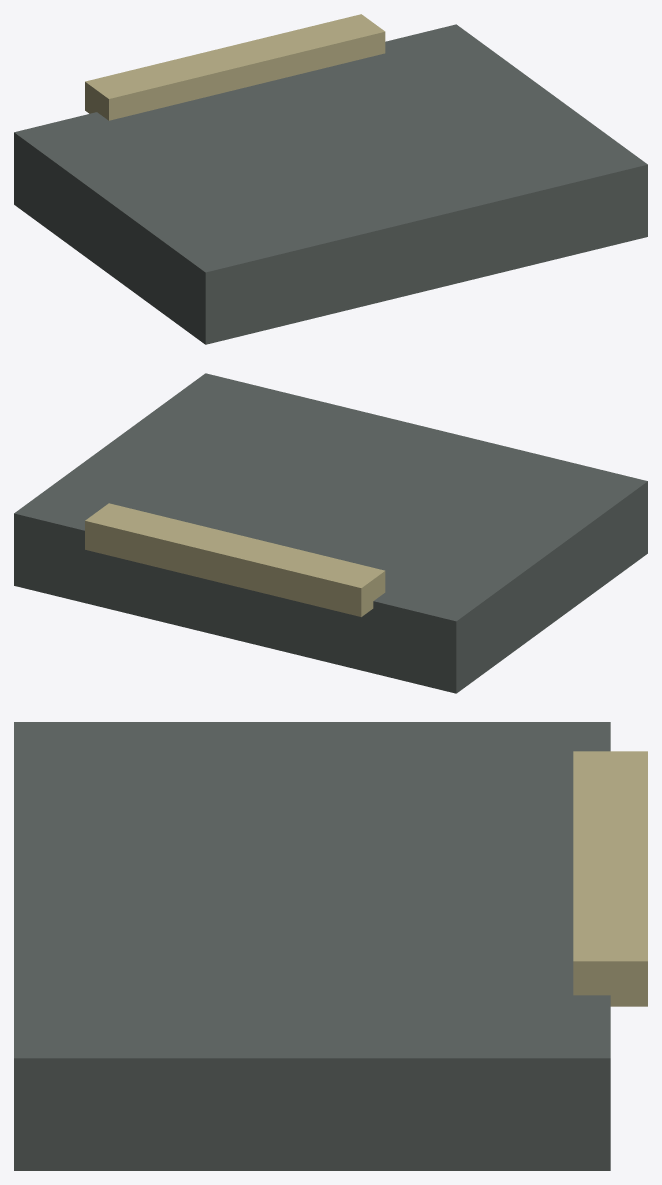
File: loot_ssd.glb
3 views of the same model, one above another, from view 1: azimuth 30°, elevation 25°; view 2: azimuth 150°, elevation 25°; view 3: azimuth 270°, elevation 25° (orthographic). The views are drawn at different scales.
Visible parts, largest first — view 1: ssd_0, pins_1; view 2: ssd_0, pins_1; view 3: ssd_0, pins_1.
Boxes of the visible parts, x1,y1,x2,y2 form: ssd_0: (14,24,647,344); pins_1: (85,14,385,120); ssd_0: (14,373,647,693); pins_1: (85,503,385,616); ssd_0: (14,722,610,1170); pins_1: (573,751,647,1006).
Size of the model in its own units: 0.32 by 0.065 by 0.255.
